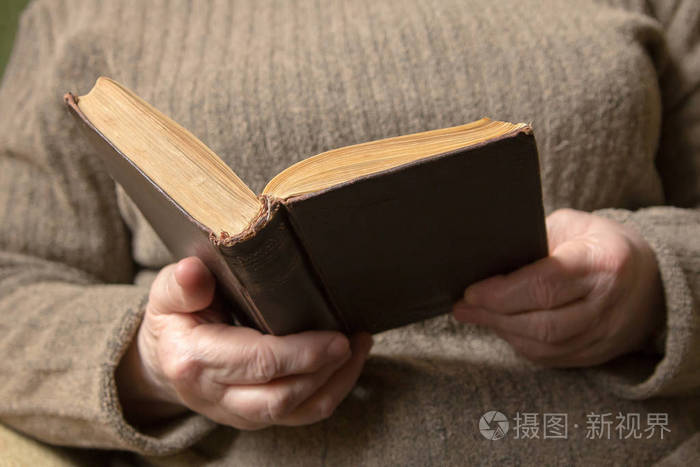no-phone: (141, 236, 390, 436), (445, 204, 661, 371)
